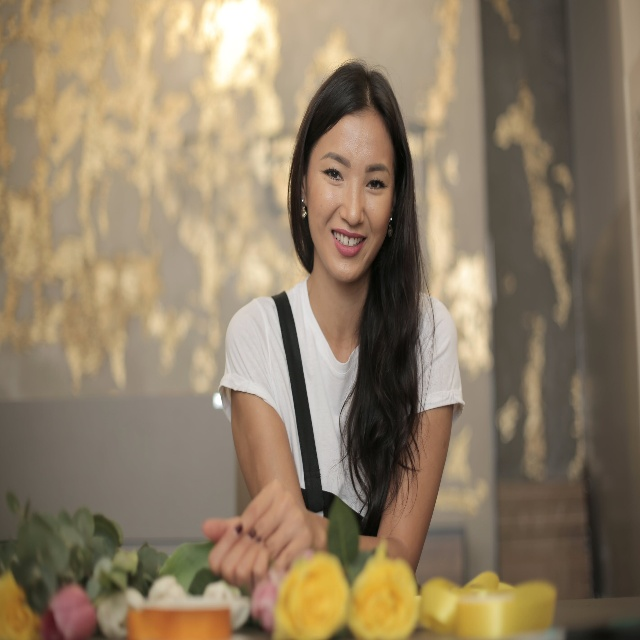Sin_guantes: (238, 478, 318, 571), (203, 516, 269, 594)
